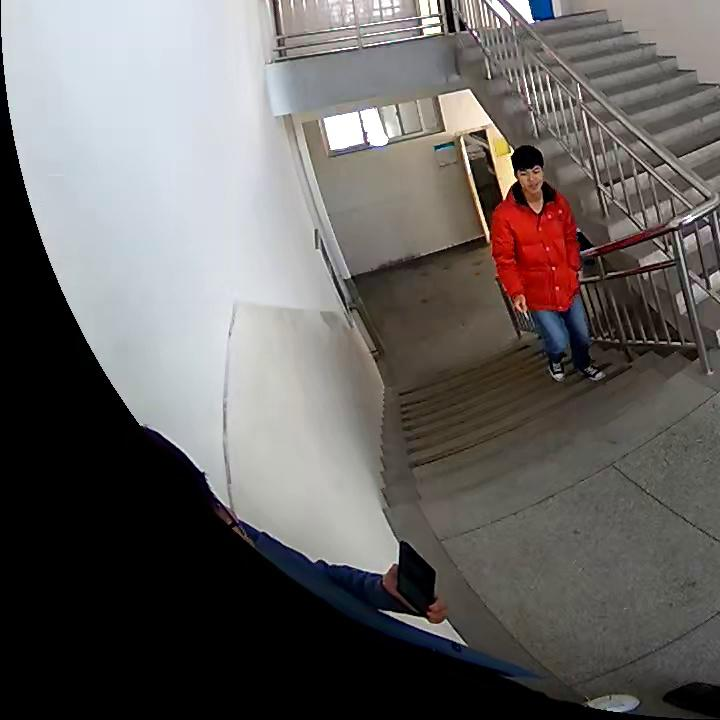handsmoke: (510, 293, 530, 319)
mouthwithoutsmoke: (510, 145, 545, 196)
